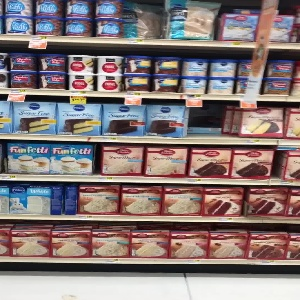void: (188, 97, 229, 142)
